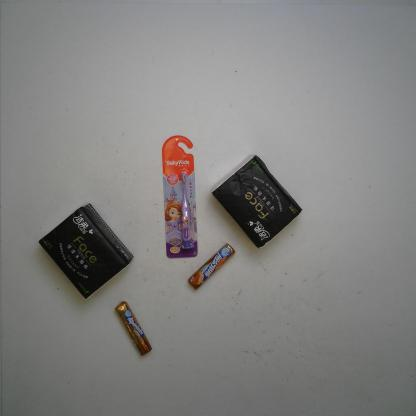Candy: (188, 242, 236, 290), (115, 301, 152, 356)
Personal Hygiene: (161, 134, 198, 259)
Tissue: (38, 202, 136, 301), (211, 154, 302, 251)
